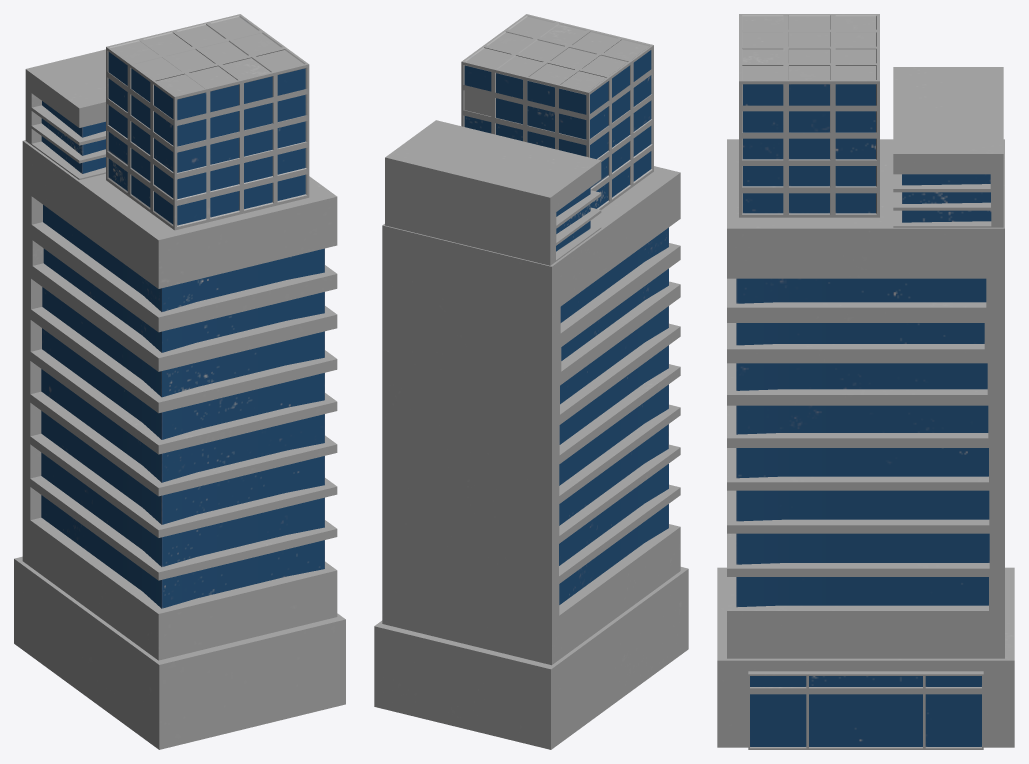
File: Building.fbx
3 renders of one model, left to right at view 1: azimuth 30°, elevation 25°; view 2: azimuth 150°, elevation 25°; view 3: azimuth 270°, elevation 25°, orthographic. The views are drawn at different scales.
Parts seen in each view (by area): view 1: Cube.011; view 2: Cube.011; view 3: Cube.011.
Boxes of the visible parts, bbox=[...] form: Cube.011: bbox=[14, 14, 345, 749]; Cube.011: bbox=[374, 14, 688, 749]; Cube.011: bbox=[717, 14, 1014, 749].
Size of the model in its own units: 912 by 2887 by 1189.
1 material, 1 textured.
